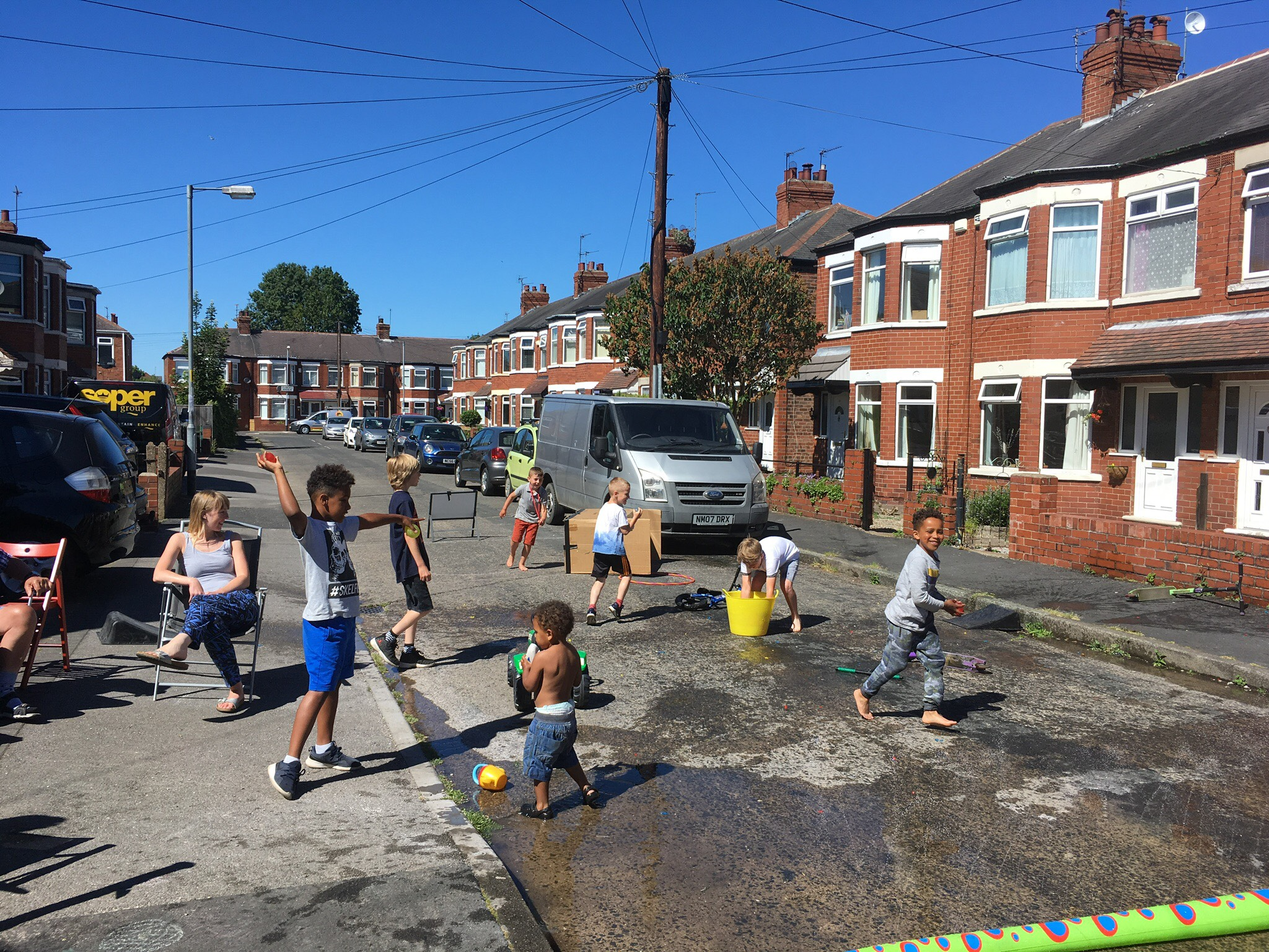Car: (522, 379, 776, 534), (7, 395, 151, 633)
Person: (260, 427, 386, 792), (875, 501, 1006, 759), (164, 484, 243, 712), (509, 462, 552, 566)
